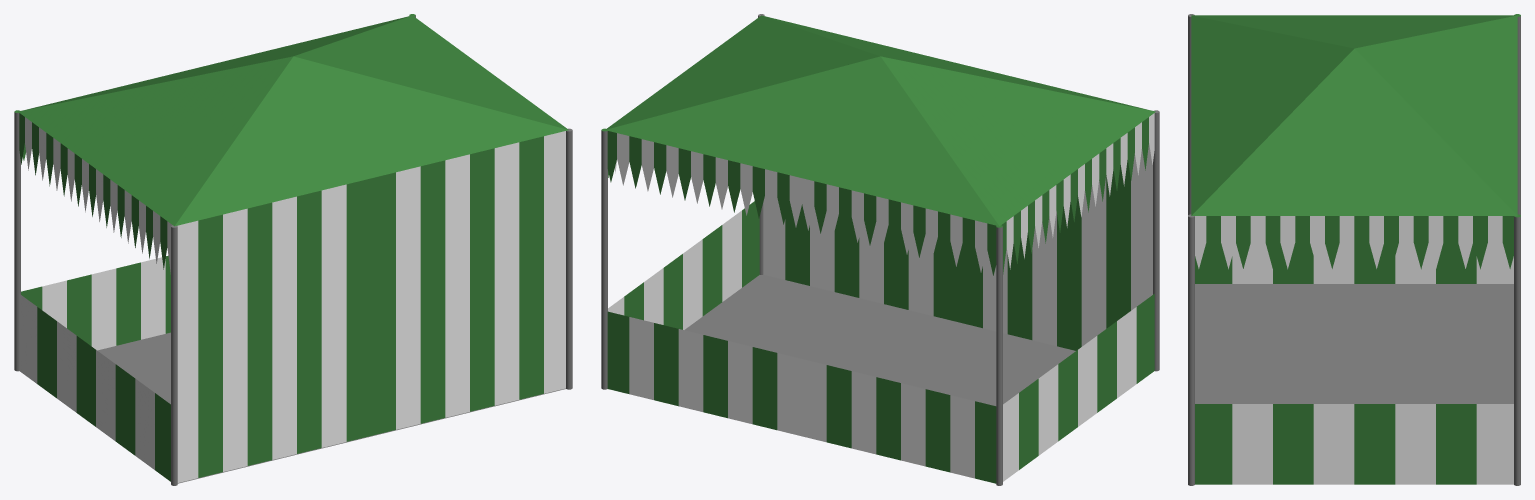
Rendered from ActualBooth_forest_green.glb.
3 views of the same model, side by side, from view 1: azimuth 30°, elevation 25°; view 2: azimuth 150°, elevation 25°; view 3: azimuth 270°, elevation 25° (orthographic). The views are drawn at different scales.
Visible parts, largest first — view 1: Plane002, Plane002_3516a4, Plane002_d69584; view 2: Plane002, Plane002_3516a4, Plane002_d69584; view 3: Plane002, Plane002_d69584, Plane002_3516a4.
Boxes of the visible parts, x1,y1,x2,y2 form: Plane002: (14,14,568,481); Plane002_3516a4: (19,117,565,482); Plane002_d69584: (14,16,572,485); Plane002: (601,15,1155,483); Plane002_3516a4: (608,113,1154,481); Plane002_d69584: (601,14,1159,485); Plane002: (1191,14,1520,484); Plane002_d69584: (1188,14,1520,485); Plane002_3516a4: (1195,216,1513,484).
Size of the model in its own units: 32.47 by 25 by 22.47.
